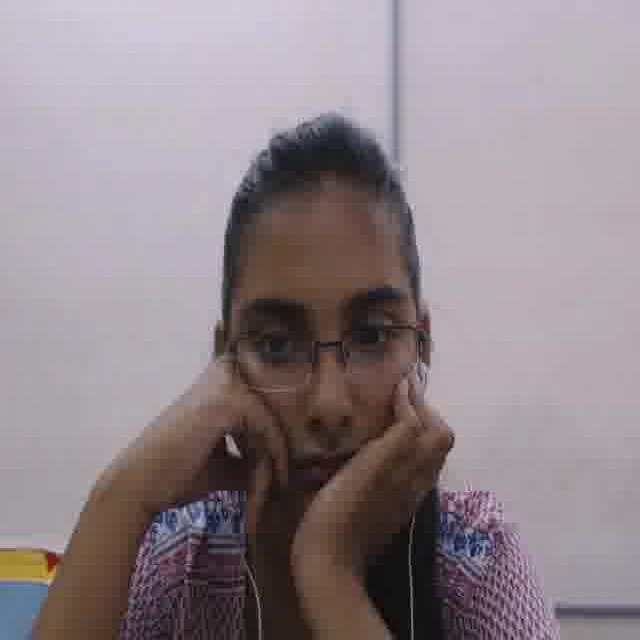Boredom: (228, 205, 411, 532)
